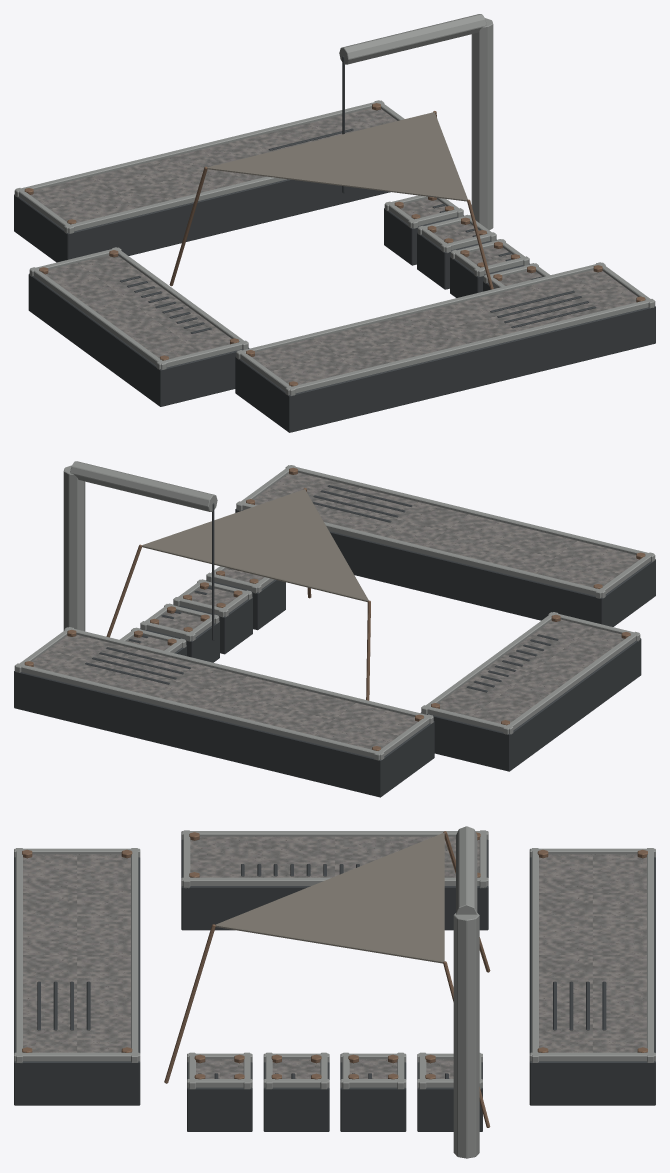
File: supply-station.glb
The picture shows the model from 3 angles, top to bottom: view 1: azimuth 30°, elevation 25°; view 2: azimuth 150°, elevation 25°; view 3: azimuth 270°, elevation 25°; orthographic projection. The views are drawn at different scales.
Visible parts, largest first — view 1: supply-station • editable solid geometry, Supply gantry • editable solid geometry; view 2: supply-station • editable solid geometry, Supply gantry • editable solid geometry; view 3: supply-station • editable solid geometry, Supply gantry • editable solid geometry.
Boxes of the visible parts, <box> form: supply-station • editable solid geometry: <box>14,100,655,432</box>; Supply gantry • editable solid geometry: <box>339,14,493,230</box>; supply-station • editable solid geometry: <box>14,465,655,797</box>; Supply gantry • editable solid geometry: <box>63,461,217,640</box>; supply-station • editable solid geometry: <box>14,830,655,1131</box>; Supply gantry • editable solid geometry: <box>453,826,479,1158</box>.
Size of the model in its own units: 5.57 by 2.51 by 5.85.
Materials: 5 (1 with a texture image).
